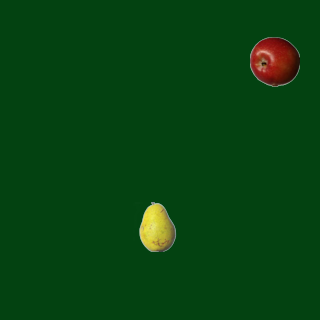Apple Braeburn: (249, 36, 299, 86)
Pear Monster: (132, 201, 182, 251)
